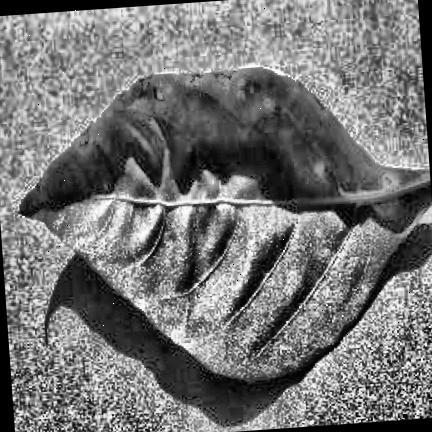leaf: (19, 67, 430, 379)
